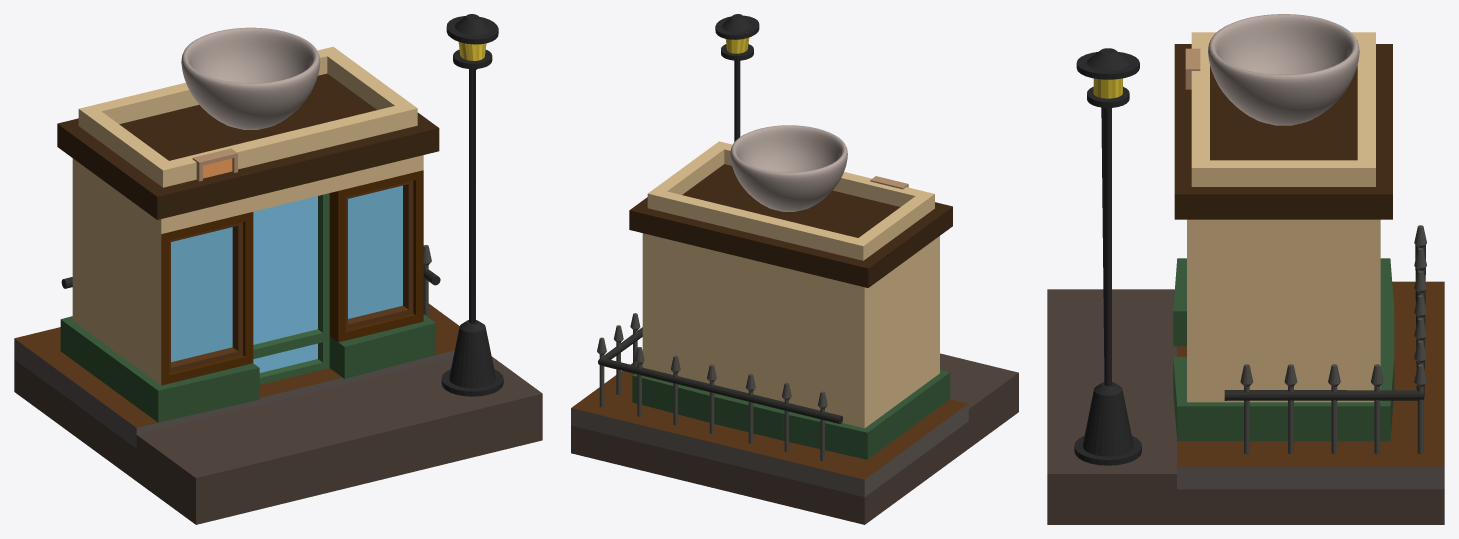
The model's file is starbies.fbx.
3 views of the same model, side by side, from view 1: azimuth 30°, elevation 25°; view 2: azimuth 150°, elevation 25°; view 3: azimuth 270°, elevation 25° (orthographic). The views are drawn at different scales.
Parts seen in each view (by area): view 1: Plane.004, Plane, Plane.005, Plane.008, Plane.006, Plane.019, Circle, Plane.002, Circle.002, Plane.007, Plane.011; view 2: Plane.004, Plane, Plane.002, Plane.005, Plane.006, Plane.019, Circle, Plane.010, Plane.009, Circle.002; view 3: Plane, Plane.004, Plane.005, Plane.002, Circle, Plane.019, Plane.006, Circle.002, Plane.010, Plane.009, Plane.011.
Boxes of the visible parts, x1=… form: Plane.004: x1=72, y1=155, x2=423, y2=385; Plane: x1=14, y1=356, x2=542, y2=524; Plane.005: x1=57, y1=73, x2=439, y2=219; Plane.008: x1=253, y1=193, x2=329, y2=384; Plane.006: x1=78, y1=46, x2=417, y2=187; Plane.019: x1=60, y1=314, x2=435, y2=422; Circle: x1=181, y1=27, x2=320, y2=129; Plane.002: x1=14, y1=303, x2=459, y2=448; Circle.002: x1=441, y1=14, x2=503, y2=396; Plane.007: x1=169, y1=181, x2=413, y2=372; Plane.011: x1=192, y1=148, x2=237, y2=181; Plane.004: x1=642, y1=233, x2=939, y2=428; Plane: x1=571, y1=353, x2=1018, y2=524; Plane.002: x1=571, y1=363, x2=968, y2=497; Plane.005: x1=629, y1=164, x2=952, y2=287; Plane.006: x1=647, y1=141, x2=934, y2=260; Plane.019: x1=632, y1=369, x2=950, y2=459; Circle: x1=730, y1=125, x2=847, y2=211; Plane.010: x1=597, y1=313, x2=827, y2=461; Plane.009: x1=598, y1=327, x2=842, y2=423; Circle.002: x1=715, y1=14, x2=759, y2=141; Plane: x1=1047, y1=289, x2=1444, y2=524; Plane.004: x1=1187, y1=219, x2=1380, y2=402; Plane.005: x1=1174, y1=44, x2=1392, y2=219; Plane.002: x1=1177, y1=281, x2=1444, y2=489; Circle: x1=1208, y1=14, x2=1359, y2=125; Plane.019: x1=1173, y1=258, x2=1394, y2=441; Plane.006: x1=1191, y1=32, x2=1375, y2=186; Circle.002: x1=1074, y1=48, x2=1141, y2=465; Plane.010: x1=1240, y1=225, x2=1426, y2=454; Plane.009: x1=1224, y1=245, x2=1425, y2=400; Plane.011: x1=1185, y1=48, x2=1200, y2=89.
Size of the model in its own units: 880 by 1003 by 800.
